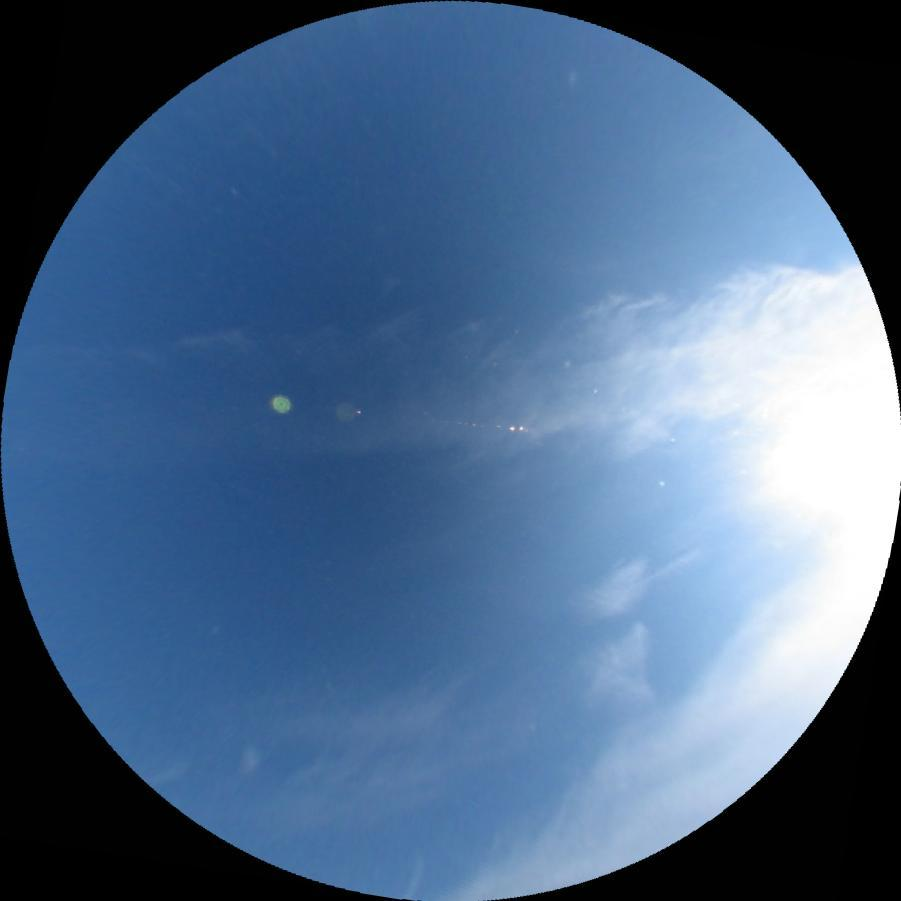contrail veryold: (153, 234, 889, 558), (581, 561, 662, 720)
unknow: (642, 544, 698, 585)
